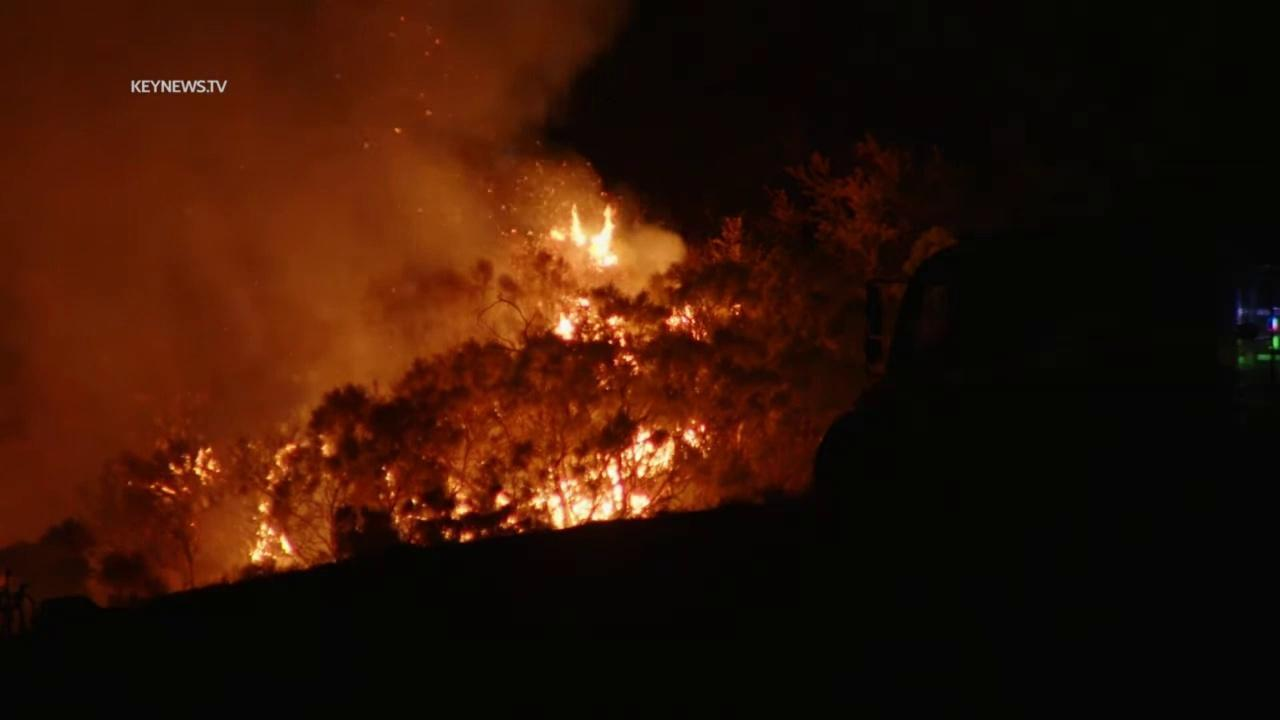fire: (494, 197, 695, 536), (379, 463, 490, 545), (248, 441, 312, 570), (146, 444, 226, 500), (316, 431, 342, 460)
smoke: (0, 0, 692, 637)
